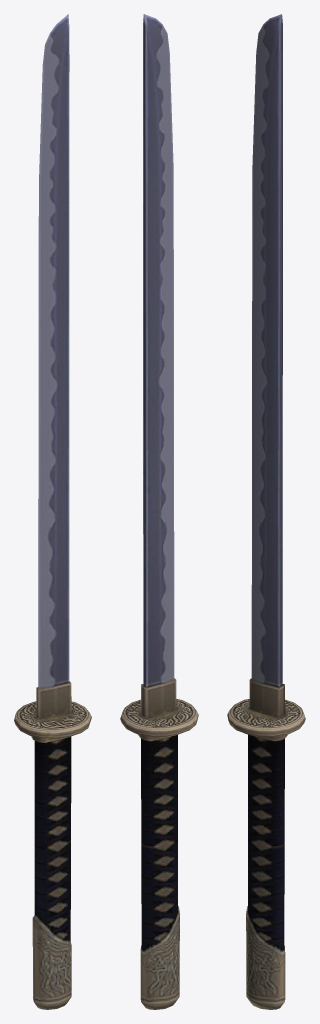
File: Ninja Katana.fbx
The picture shows the model from 3 angles, left to right: view 1: azimuth 30°, elevation 25°; view 2: azimuth 210°, elevation 25°; view 3: azimuth 330°, elevation 25°; orthographic projection.
Visible parts, largest first — view 1: NinjiaKatana; view 2: NinjiaKatana; view 3: NinjiaKatana.
Boxes of the visible parts, x1,y1,x2,y2 form: NinjiaKatana: [14, 14, 91, 1009]; NinjiaKatana: [120, 14, 198, 1009]; NinjiaKatana: [227, 14, 305, 1009].
Bounding box in the file's own units: 6.69 × 93.27 × 6.46.
